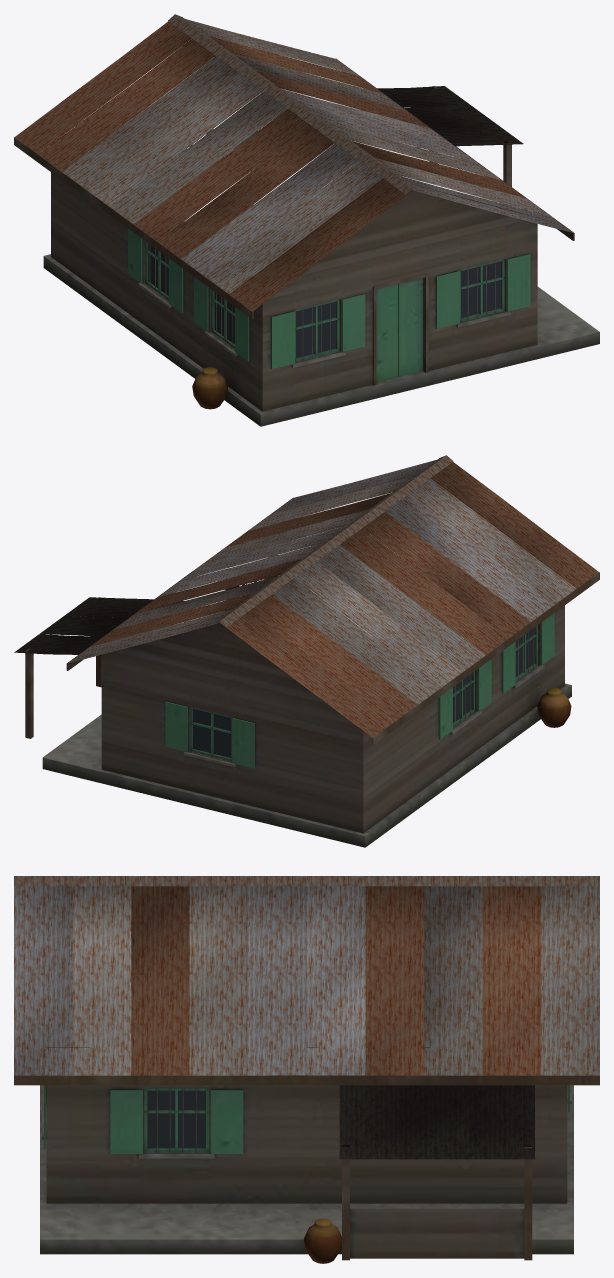
The model's file is house_1.glb.
The picture shows the model from 3 angles, top to bottom: view 1: azimuth 30°, elevation 25°; view 2: azimuth 150°, elevation 25°; view 3: azimuth 270°, elevation 25°; orthographic projection. The views are drawn at different scales.
Visible parts, largest first — view 1: house_1_roof, house_1_body, house_1_windows; view 2: house_1_roof, house_1_body, house_1_windows; view 3: house_1_roof, house_1_body, house_1_windows.
Part boxes in pixels (x1,y1,x2,y2): house_1_roof: (15, 14, 572, 311); house_1_body: (14, 58, 599, 426); house_1_windows: (148, 243, 501, 358); house_1_roof: (14, 455, 598, 737); house_1_body: (25, 497, 599, 847); house_1_windows: (193, 627, 534, 757); house_1_roof: (14, 876, 599, 1159); house_1_body: (14, 1047, 599, 1263); house_1_windows: (147, 1090, 205, 1148).
Size of the model in its own units: 9.09 by 4.4 by 9.
Materials: 3 (2 with a texture image).
